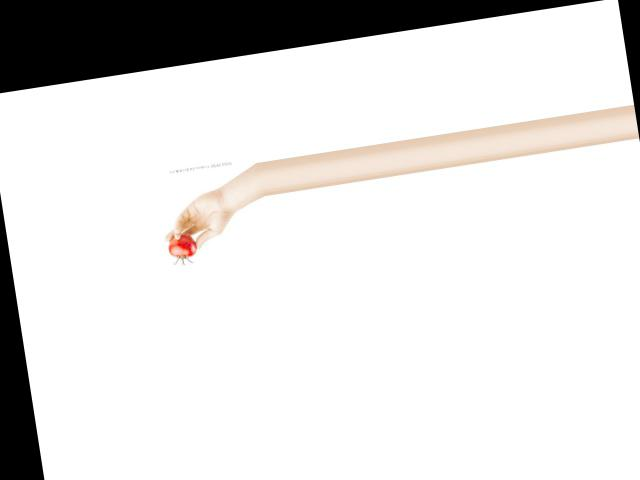tomato: (166, 231, 198, 259)
